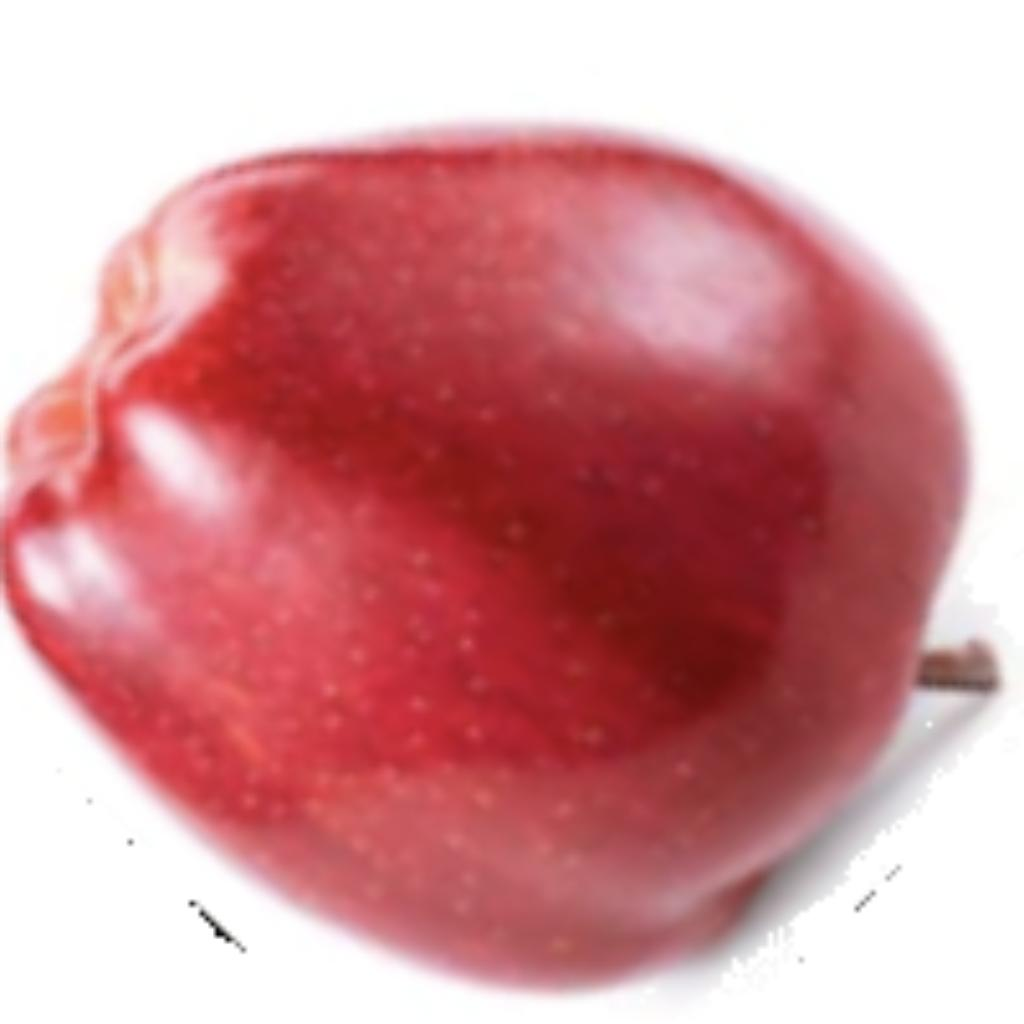apple: (0, 108, 1019, 1006)
